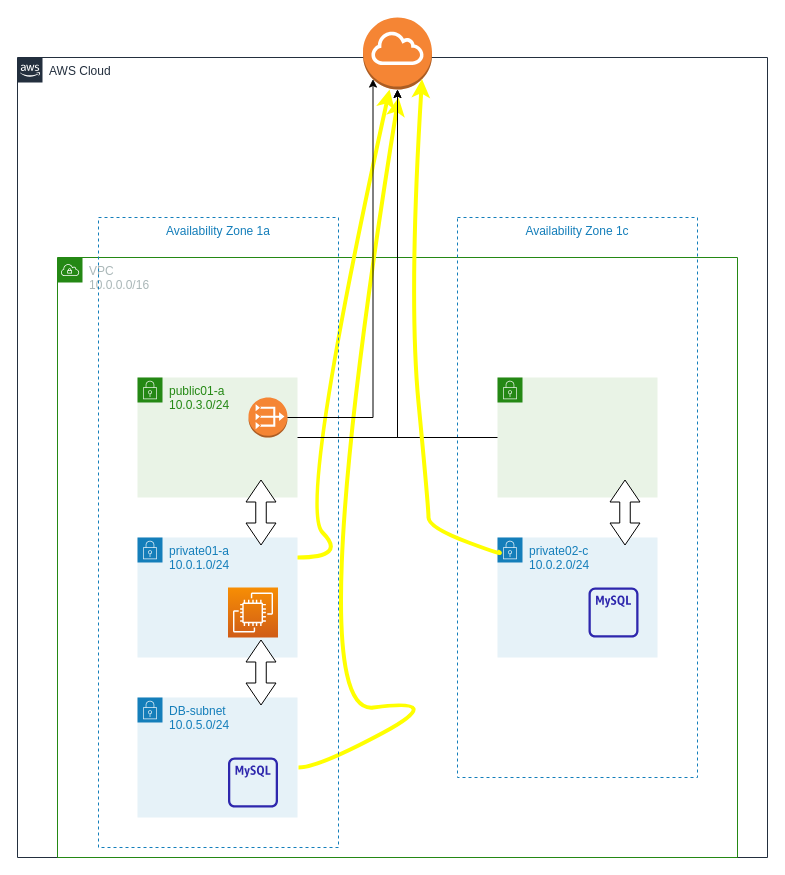
Image size: 785x875. Some labels were removed from this diagram. The centre of each missing label's shape, as x and y in pixels:
"IGW" belongs at [397,53].
"my-nat-gw" belongs at [268,417].
"public01-c 10.0.4.0/24" belongs at [577,437].
